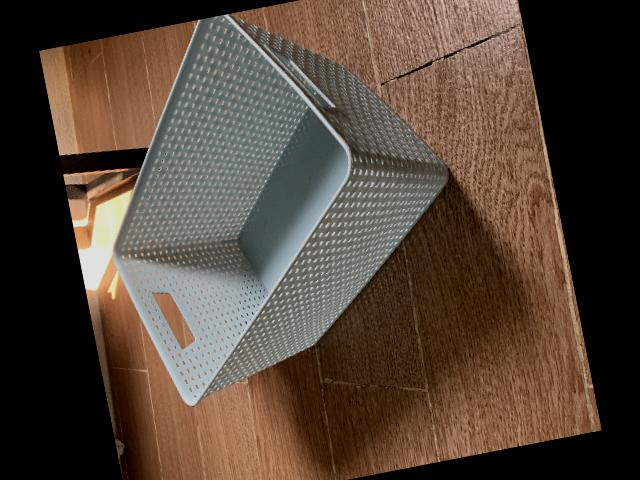cart: (112, 13, 451, 404)
